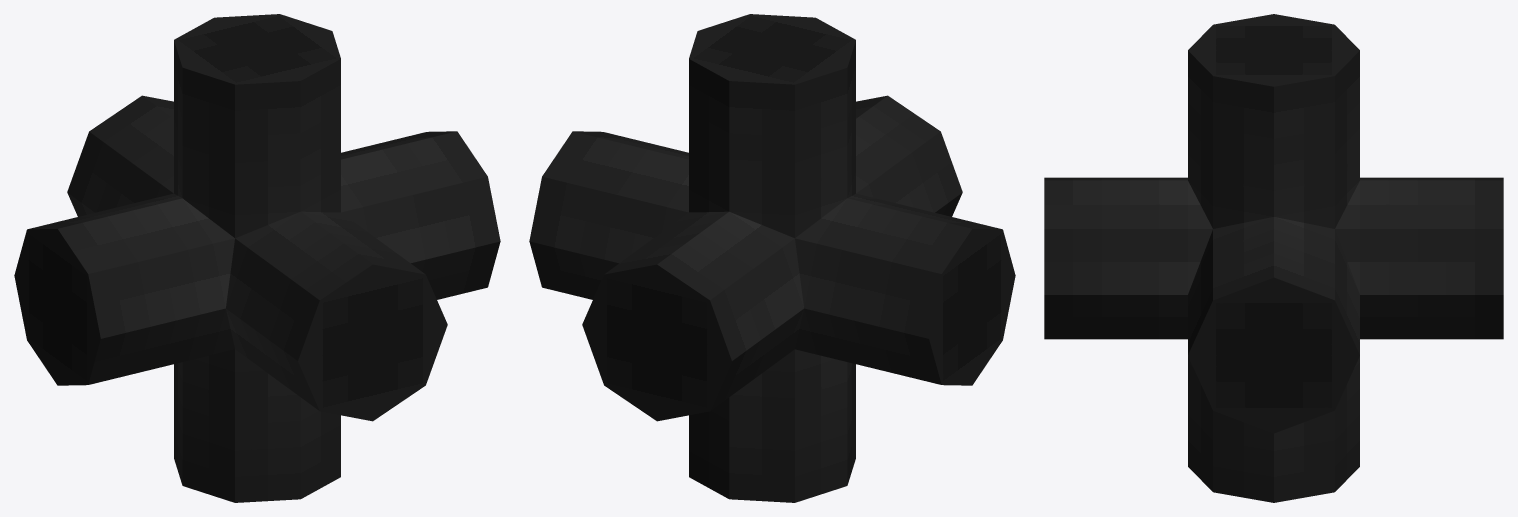
File: tungsten_pipe_inventory.obj
3 views of the same model, side by side, from view 1: azimuth 30°, elevation 25°; view 2: azimuth 150°, elevation 25°; view 3: azimuth 270°, elevation 25° (orthographic).
Visible parts, largest first — view 1: nZ, nX, pY, nY, pX, pZ; view 2: pZ, nX, pY, nY, pX, nZ; view 3: pY, pX, nZ, pZ, nY.
Part boxes in pixels (left/top/right/bottom): nZ: left=226, top=211, right=447, bottom=421; nX: left=14, top=193, right=234, bottom=385; pY: left=174, top=14, right=340, bottom=238; nY: left=174, top=349, right=340, bottom=502; pX: left=341, top=131, right=500, bottom=299; pZ: left=67, top=95, right=173, bottom=216; pZ: left=582, top=211, right=803, bottom=421; nX: left=795, top=193, right=1015, bottom=385; pY: left=689, top=14, right=855, bottom=238; nY: left=689, top=349, right=855, bottom=502; pX: left=529, top=131, right=688, bottom=299; nZ: left=856, top=95, right=962, bottom=216; pY: left=1188, top=14, right=1359, bottom=228; pX: left=1188, top=217, right=1359, bottom=433; nZ: left=1044, top=177, right=1212, bottom=339; pZ: left=1335, top=177, right=1503, bottom=339; nY: left=1188, top=356, right=1359, bottom=502.
Bounding box in the file's own units: 1 × 1 × 1.
